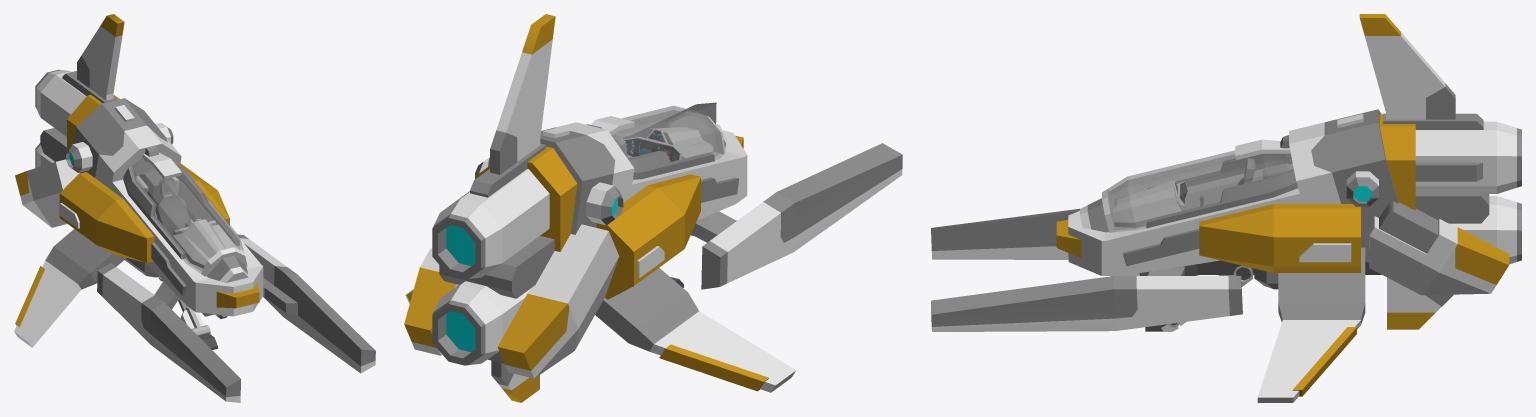
File: SM_SpaceshipS_Scout01.fbx
The picture shows the model from 3 angles, left to right: view 1: azimuth 30°, elevation 25°; view 2: azimuth 150°, elevation 25°; view 3: azimuth 270°, elevation 25°; orthographic projection. The views are drawn at different scales.
Visible parts, largest first — view 1: SM_SpaceshipS_Scout01_Body, SM_SpaceshipS_Scout01_Cockpit, SM_SpaceshipS_Scout01_Cockpit_Glass, SM_Landing_1, SM_Landing_2; view 2: SM_SpaceshipS_Scout01_Body, SM_SpaceshipS_Scout01_Cockpit, SM_SpaceshipS_Scout01_Cockpit_Glass; view 3: SM_SpaceshipS_Scout01_Body, SM_SpaceshipS_Scout01_Cockpit, SM_SpaceshipS_Scout01_Cockpit_Glass.
Part boxes in pixels (<box>): SM_SpaceshipS_Scout01_Body: <box>14,14,375,402</box>; SM_SpaceshipS_Scout01_Cockpit: <box>66,98,263,318</box>; SM_SpaceshipS_Scout01_Cockpit_Glass: <box>123,152,243,273</box>; SM_Landing_1: <box>157,275,203,328</box>; SM_Landing_2: <box>191,325,217,349</box>; SM_SpaceshipS_Scout01_Body: <box>404,14,902,402</box>; SM_SpaceshipS_Scout01_Cockpit: <box>475,111,747,234</box>; SM_SpaceshipS_Scout01_Cockpit_Glass: <box>591,105,723,179</box>; SM_SpaceshipS_Scout01_Body: <box>931,14,1521,402</box>; SM_SpaceshipS_Scout01_Cockpit: <box>1056,109,1398,289</box>; SM_SpaceshipS_Scout01_Cockpit_Glass: <box>1107,139,1297,231</box>.
Bounding box in the file's own units: 506 × 472 × 811.
